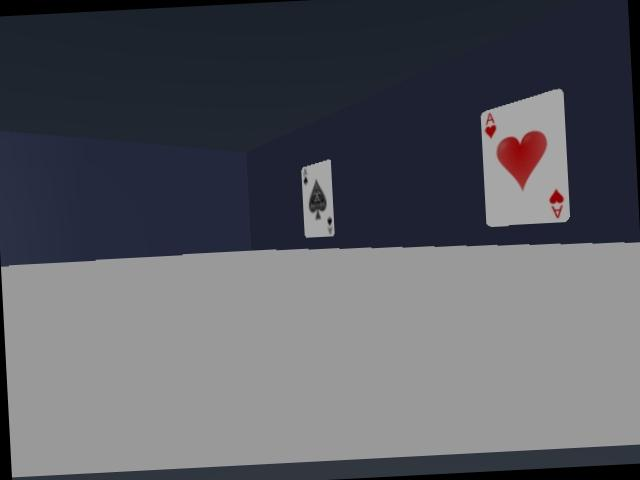heart: (481, 89, 569, 226)
spade: (301, 160, 334, 237)
